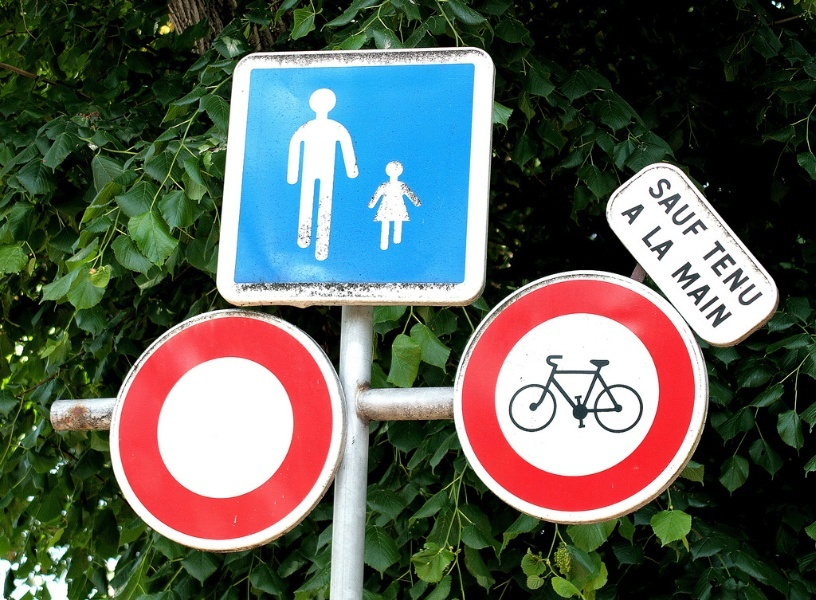text: (721, 240, 736, 309), (737, 240, 752, 309), (689, 260, 704, 329), (705, 260, 720, 329), (673, 176, 688, 243), (689, 176, 704, 243), (721, 260, 733, 329), (753, 240, 764, 309), (664, 176, 672, 243), (659, 225, 672, 262), (625, 201, 640, 226), (705, 176, 708, 243), (641, 201, 648, 226), (718, 240, 720, 309), (673, 225, 676, 262), (621, 201, 624, 226)
